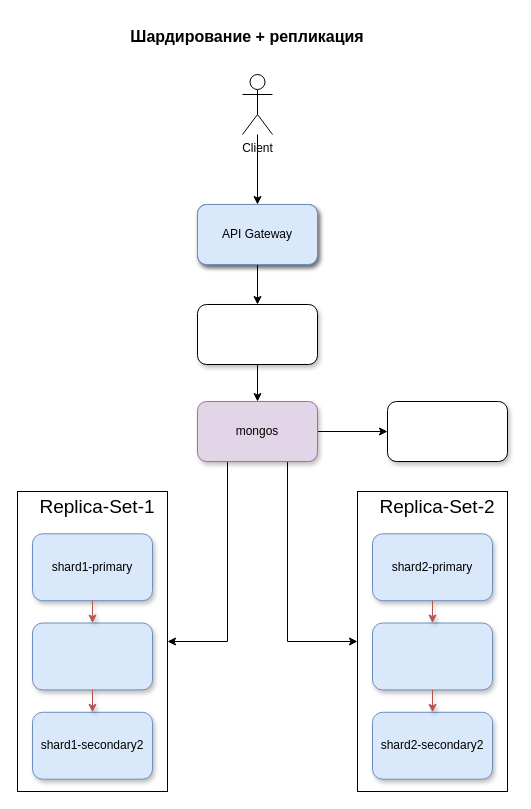
The diagram is 531 pixels wide and 809 high, and some of its shapes have lost their labels. Here are the shapes that lost their labels. From the top down, the centre of each, then its label:
[258,336]: pymongo-api
[448,432]: configsvr
[93,657]: shard1-secondary1
[433,657]: shard2-secondary1
